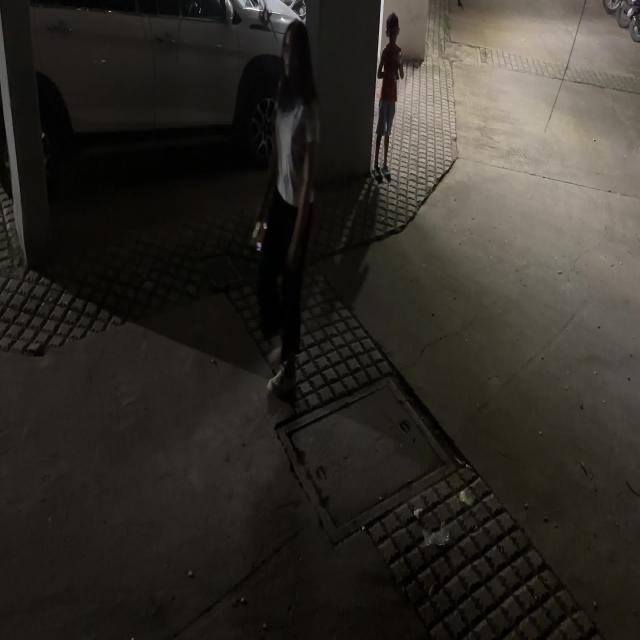human: (245, 16, 332, 422), (366, 5, 410, 186)
trash: (423, 520, 453, 553), (408, 498, 429, 522), (457, 485, 476, 508)
